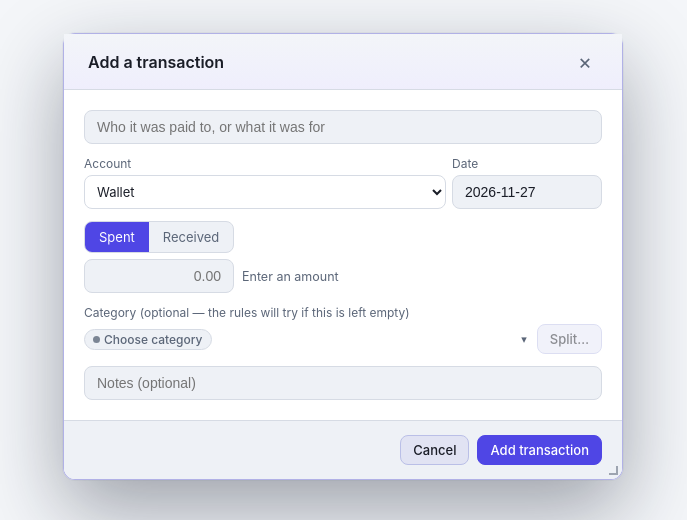
Test: AddTransactionDialog › shows what will actually be recorded, so the direction is checkable rather than trusted
Expected: the field named "Amount" is shown, [84,259,234,293]
Type "Corner Cafe" into the field named "Payee or description" at (343, 127), box [84,110,602,144]
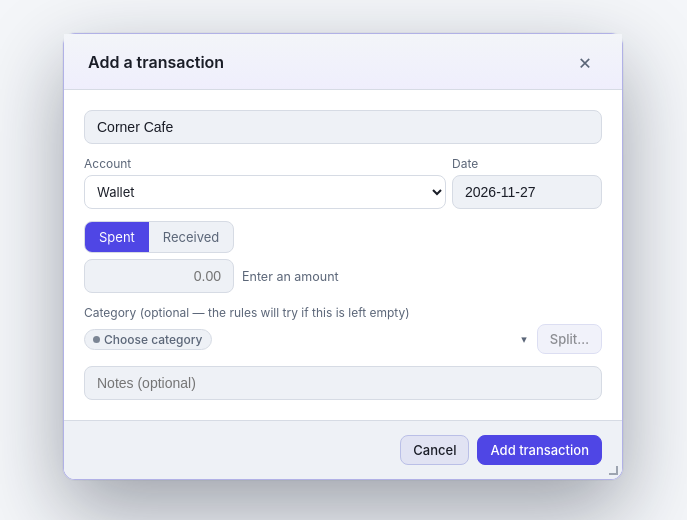
Type "12.50" into the field named "Amount" at (159, 276), box [84,259,234,293]
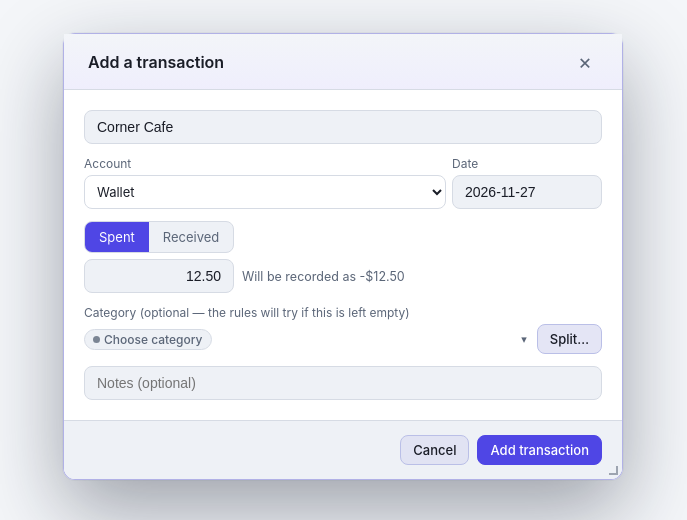
Expected: the text "Will be recorded as -$12.50" is shown, [242,268,405,284]
Click the button "Received" at (191, 237), box [149,222,233,252]
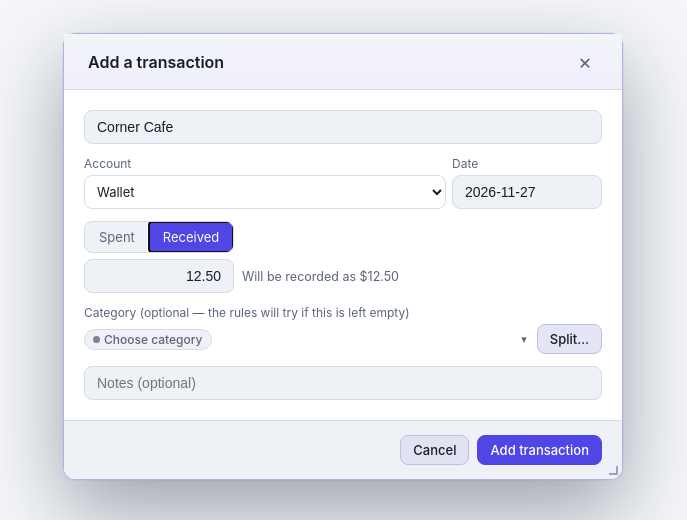
Expected: the text "Will be recorded as $12.50" is shown, [242,268,399,284]
